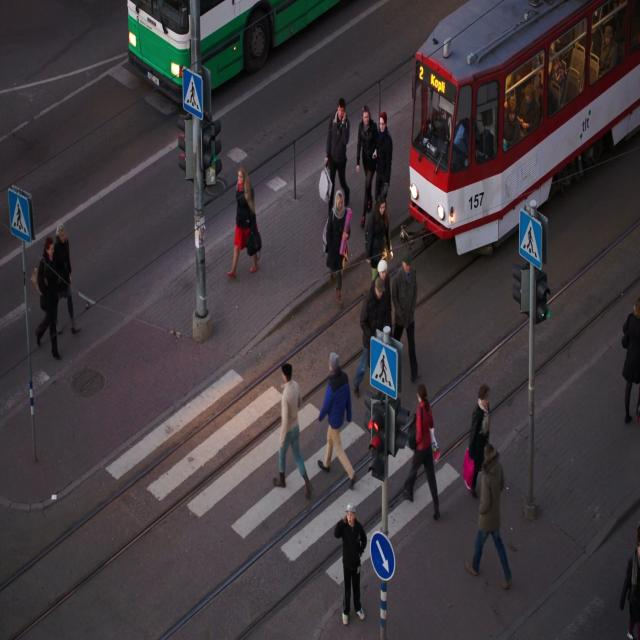pedestrian: (318, 353, 355, 488), (274, 363, 311, 497), (404, 384, 439, 520), (392, 255, 417, 379), (468, 385, 489, 497), (402, 305, 419, 381), (402, 257, 417, 312), (390, 274, 401, 311), (393, 315, 403, 340)
